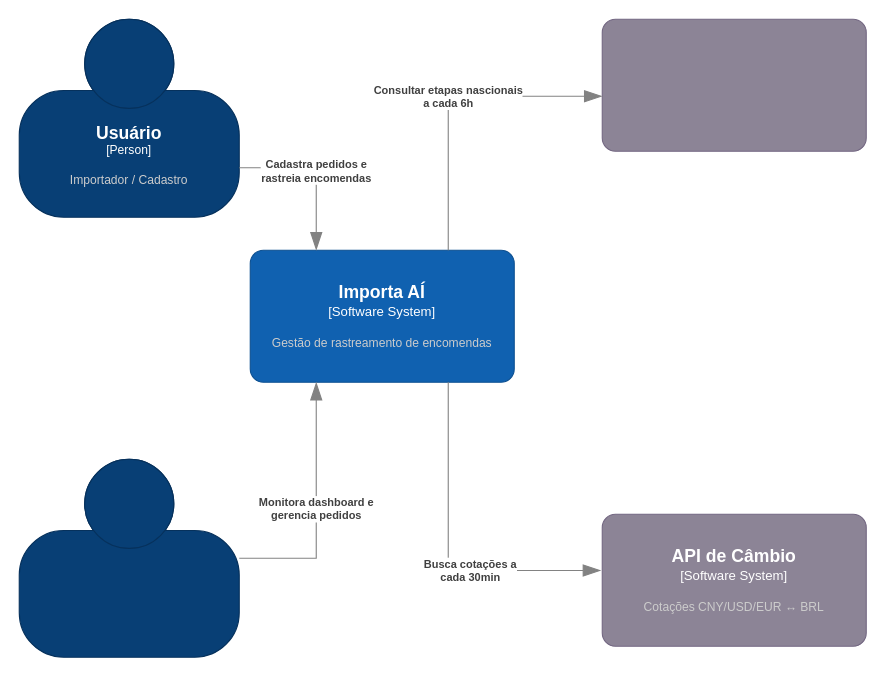
This 886x677 diagram has some shape labels left out. The shapes that lost their labels are listed below. From the top down, each one's box as (x1, y1, x2, y2) in pixels, then its label:
(601, 18, 866, 151): API dos Correios [Software System] Rastreamento nacional dos produtos
(18, 458, 239, 657): Administrador [Person] Operador / monitora
